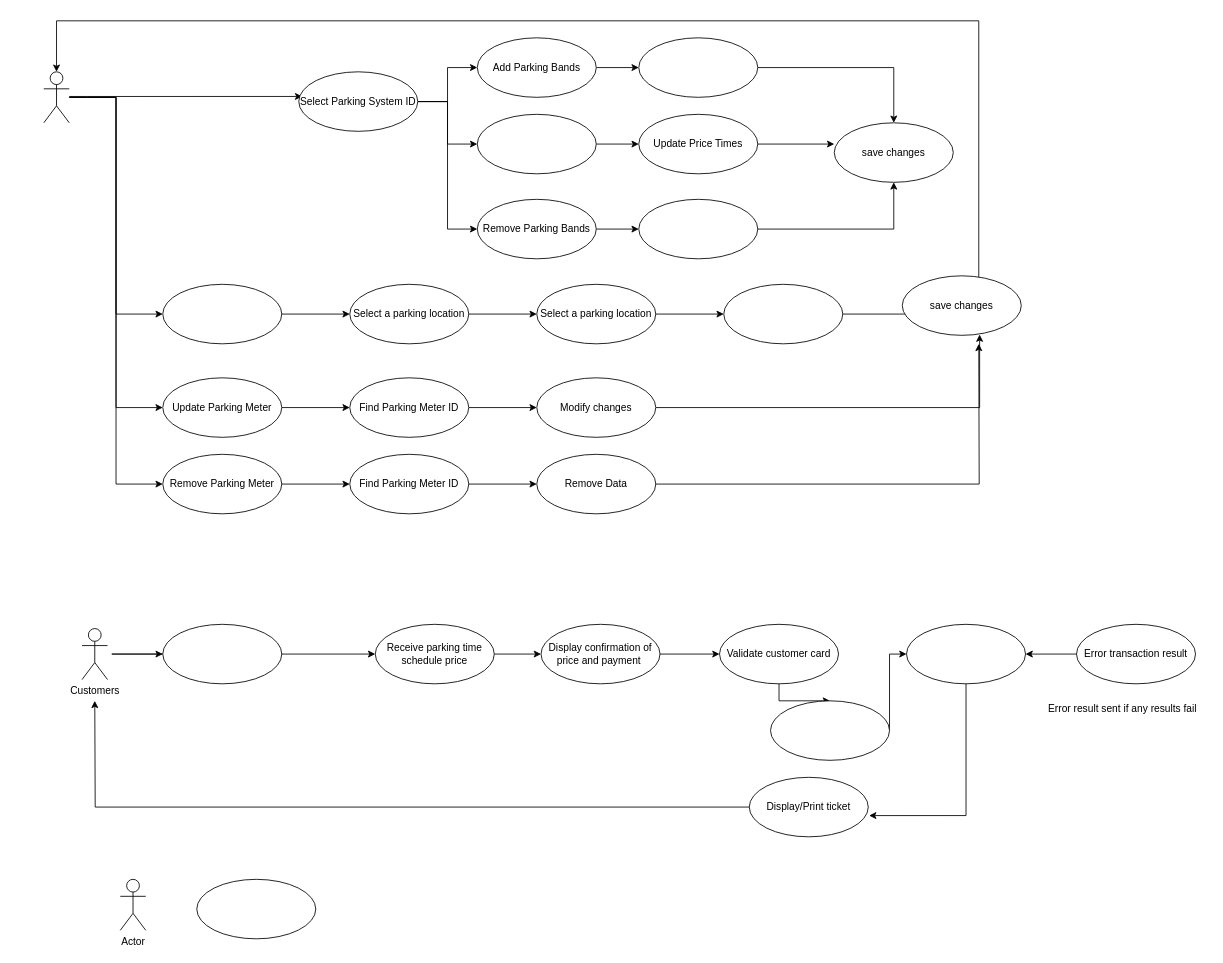
Some shapes in this 1223 by 963 pixel diagram are drawn without their labels. Here are the shapes that lost their labels. From the top down, the centre of each, then its label:
At [698,67]: "Add Price Times".
At [56,97]: "Car Park Manager".
At [536,143]: "Update Parking Bands".
At [698,228]: "Delete any existing data".
At [222,313]: "Create Parking Meter".
At [783,313]: "Create Parking Meter ID".
At [222,653]: "Enter duration stay".
At [966,653]: "payment result".
At [830,730]: "Check lunn".
At [256,908]: "Use Case".
